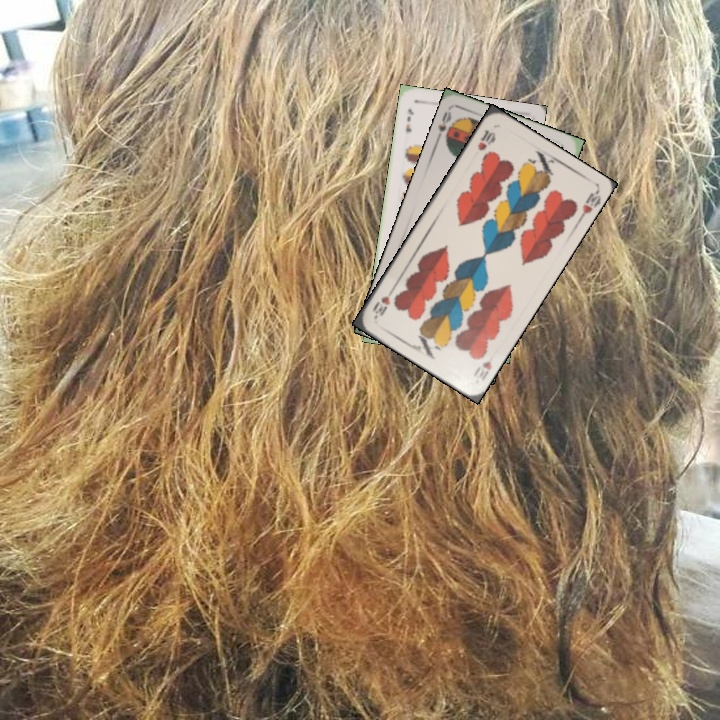E7: (402, 105, 416, 135)
H10: (469, 357, 495, 383), (473, 126, 498, 153)
SO: (432, 107, 457, 147)
